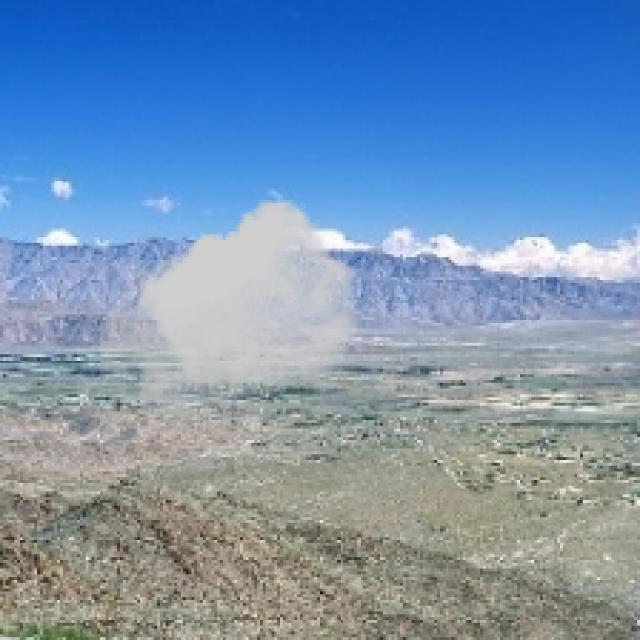smoke: (100, 200, 360, 429)
